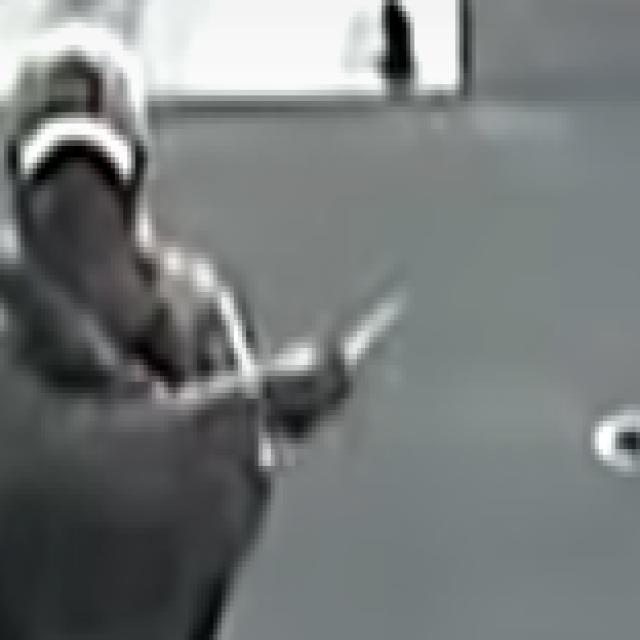Fknife: (328, 279, 418, 412)
